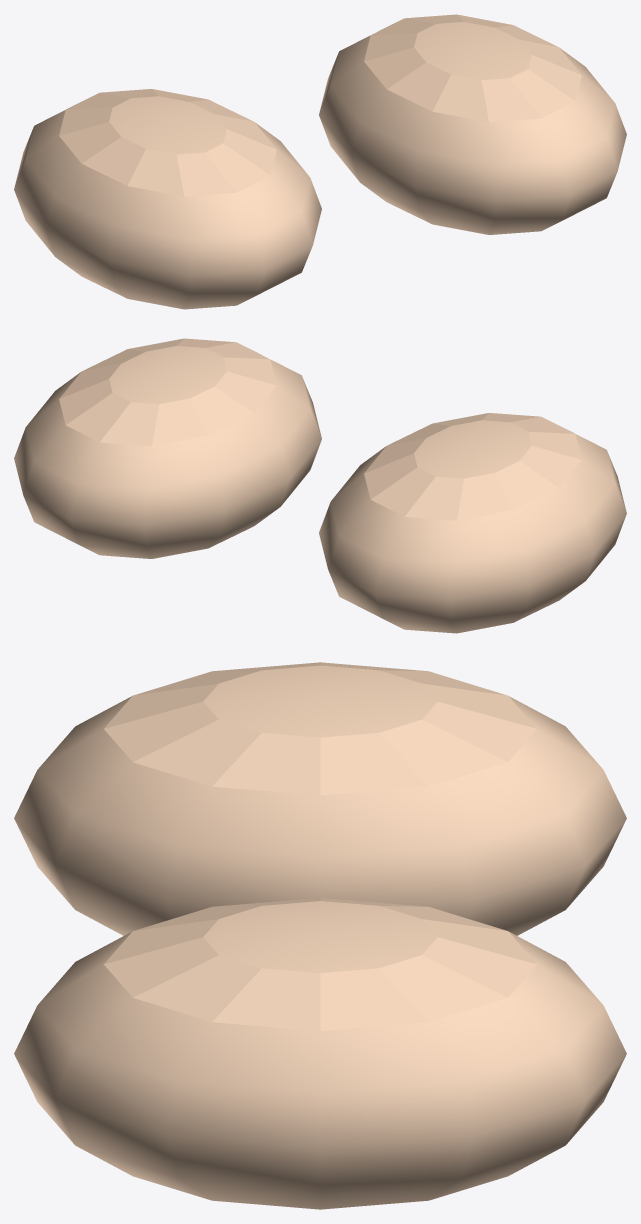
File: Shoes_Barefoot.fbx
3 renders of one model, top to bottom at view 1: azimuth 30°, elevation 25°; view 2: azimuth 150°, elevation 25°; view 3: azimuth 270°, elevation 25°, orthographic. The views are drawn at different scales.
Visible parts, largest first — view 1: Foot, Foot.001; view 2: Foot, Foot.001; view 3: Foot, Foot.001.
Boxes of the visible parts, box(x1,y1,x2,y2) form: Foot: box(319, 14, 626, 234); Foot.001: box(14, 89, 321, 309); Foot: box(14, 338, 321, 558); Foot.001: box(319, 413, 626, 633); Foot: box(14, 898, 626, 1209); Foot.001: box(14, 662, 626, 935).
Size of the model in its own units: 36 by 10 by 22.
